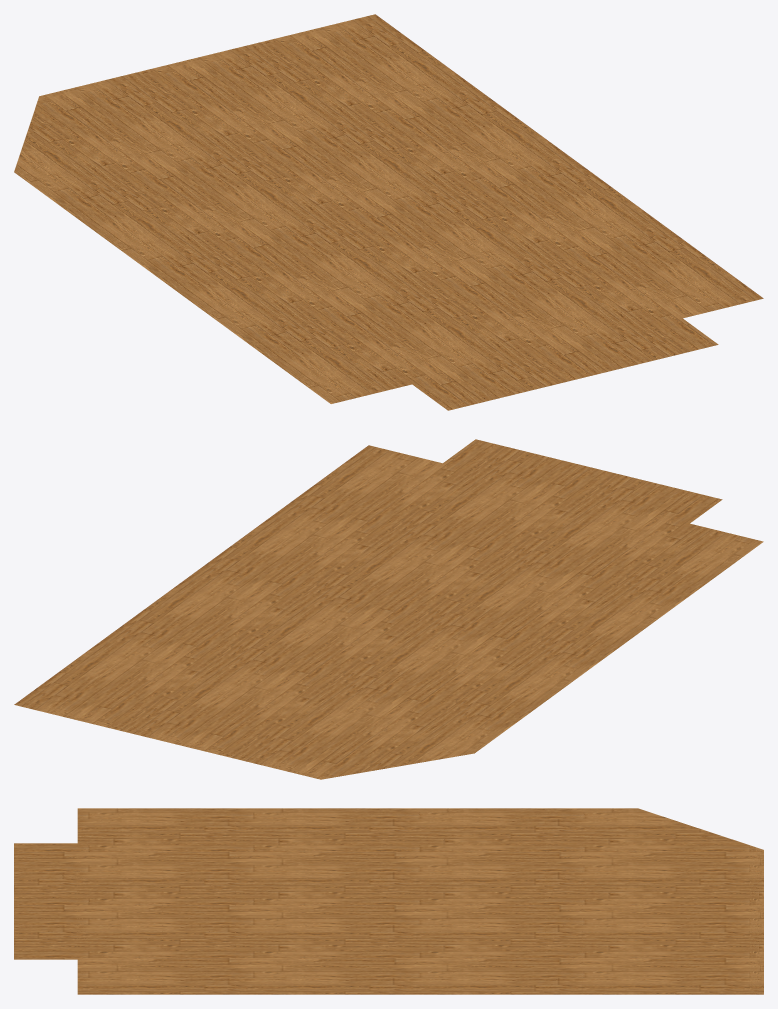
Rendered from UpdatedFutureFloor.fbx.
3 views of the same model, one above another, from view 1: azimuth 30°, elevation 25°; view 2: azimuth 150°, elevation 25°; view 3: azimuth 270°, elevation 25° (orthographic). The views are drawn at different scales.
Parts seen in each view (by area): view 1: RoomBaseModel2023_03_30_Floor1; view 2: RoomBaseModel2023_03_30_Floor1; view 3: RoomBaseModel2023_03_30_Floor1.
Boxes of the visible parts, <box> form: RoomBaseModel2023_03_30_Floor1: <box>14,14,763,410</box>; RoomBaseModel2023_03_30_Floor1: <box>14,439,763,779</box>; RoomBaseModel2023_03_30_Floor1: <box>14,808,763,994</box>.
Size of the model in its own units: 1591 by 0.000977 by 2703.
1 material, 1 textured.
